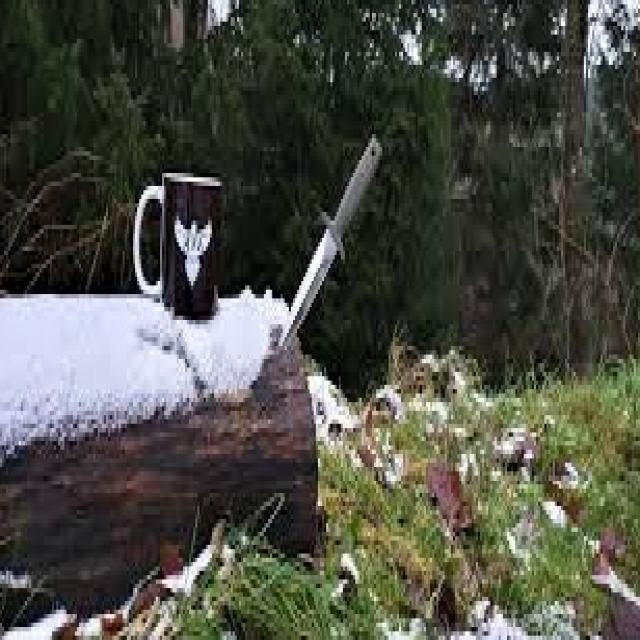Gun: (272, 131, 386, 363)
